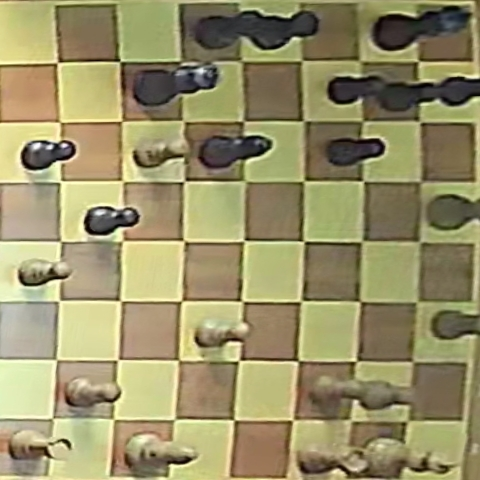black-bishop: (200, 135, 271, 169)
black-king: (374, 6, 472, 52)
black-pawn: (329, 75, 393, 106), (377, 81, 435, 113), (327, 137, 385, 166), (22, 139, 76, 170), (85, 205, 139, 235), (436, 75, 479, 107)
black-queen: (133, 63, 218, 106)
black-rook: (195, 10, 267, 51), (250, 11, 322, 52)
white-bishop: (124, 431, 198, 475)
white-king: (357, 437, 459, 478)
white-pawn: (131, 136, 192, 170), (309, 375, 369, 409), (358, 380, 421, 409), (66, 376, 121, 407), (196, 318, 250, 347), (19, 258, 72, 287), (433, 310, 479, 340)
white-queen: (427, 194, 478, 229)
white-rook: (298, 444, 368, 475), (9, 429, 72, 461)
